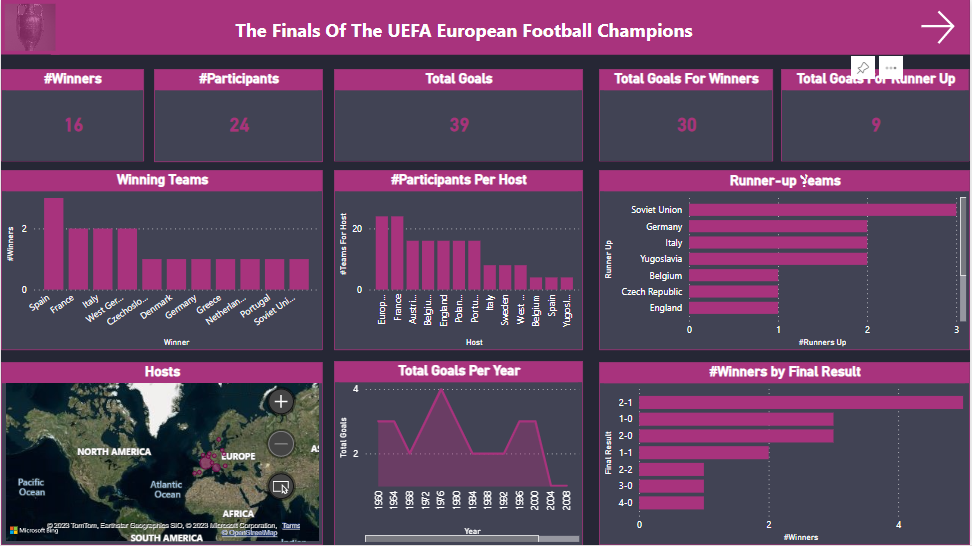

The page's visual inventory and layout, read from the dashboard file:
{"tool":"powerbi","page":{"name":" championship","canvas":[1280,720],"ordinal":0},"visuals":[{"type":"clusteredColumnChart","title":"Winning Teams","fields":{"Category":["Cup Results.Winner"],"Y":["Cup Results.#Winners"]},"box":[0,223.9,425.2,238.1],"z":0},{"type":"map","title":"Hosts","fields":{"Category":["Cup Results.Host"],"Size":["CountNonNull(Cup Results.Host)"]},"box":[0,477.6,425.2,242.4],"z":1000},{"type":"actionButton","box":[0,0,100,40],"z":2000},{"type":"card","title":"#Winners","fields":{"Values":["Cup Results.Measure"]},"box":[0,90.7,188.5,121.9],"z":3000},{"type":"card","title":"#Participants","fields":{"Values":["Max(Cup Results.Number Of Teams)"]},"box":[201.6,90.7,223.4,122.6],"z":4000},{"type":"card","title":"Total Goals","fields":{"Values":["Cup Results.Total Goals"]},"box":[439.4,90.7,328.8,121.9],"z":5000},{"type":"card","title":"Total Goals For Winners","fields":{"Values":["Cup Results.TotalGoal OF Wiinner"]},"box":[789.4,90.7,229.6,121.9],"z":6000},{"type":"card","title":"Total Goals For Runner Up","fields":{"Values":["Cup Results.Total Goals For Runner Up"]},"box":[1030.4,90.7,249.4,121.9],"z":7000},{"type":"barChart","title":" Runner-up لإeams","fields":{"Category":["Cup Results.Runner Up"],"Y":["Cup Results.#Runners Up"]},"box":[789.4,223.9,490.4,238.1],"z":8000},{"type":"barChart","fields":{"Category":["Cup Results.Final Result"],"Y":["Cup Results.#Winners"]},"box":[789.4,477.6,490.4,242.4],"z":9000},{"type":"areaChart","title":"Total Goals Per Year","fields":{"Category":["Cup Results.Year"],"Y":["Cup Results.Total Goals"]},"box":[440.1,477.1,329.2,243.6],"z":10000},{"type":"columnChart","title":"#Participants Per Host","fields":{"Category":["Cup Results.Host"],"Y":["Cup Results.#Teams For Host"]},"box":[439.4,223.9,328.8,238.1],"z":11000},{"type":"textbox","box":[65.5,1.7,1127.1,70.6],"z":12000},{"type":"actionButton","box":[1192.7,0,87.3,72.2],"z":13000},{"type":"image","box":[0,0,77.3,73.9],"z":14000}]}

Visuals, with their boxes in screenshot pixels (x1, y1, x2, y2), scaled from the page's 1280x720 canvas onto the 972x546 screenshot:
"Winning Teams" clusteredColumnChart: 0, 170, 323, 350
"Hosts" map: 0, 362, 323, 545
actionButton: 0, 0, 76, 30
"#Winners" card: 0, 69, 143, 161
"#Participants" card: 153, 69, 323, 162
"Total Goals" card: 334, 69, 583, 161
"Total Goals For Winners" card: 599, 69, 774, 161
"Total Goals For Runner Up" card: 782, 69, 971, 161
" Runner-up لإeams" barChart: 599, 170, 971, 350
barChart - Cup Results.Final Result x Cup Results.#Winners: 599, 362, 971, 545
"Total Goals Per Year" areaChart: 334, 362, 584, 545
"#Participants Per Host" columnChart: 334, 170, 583, 350
textbox: 50, 1, 906, 55
actionButton: 906, 0, 971, 55
image: 0, 0, 59, 56
